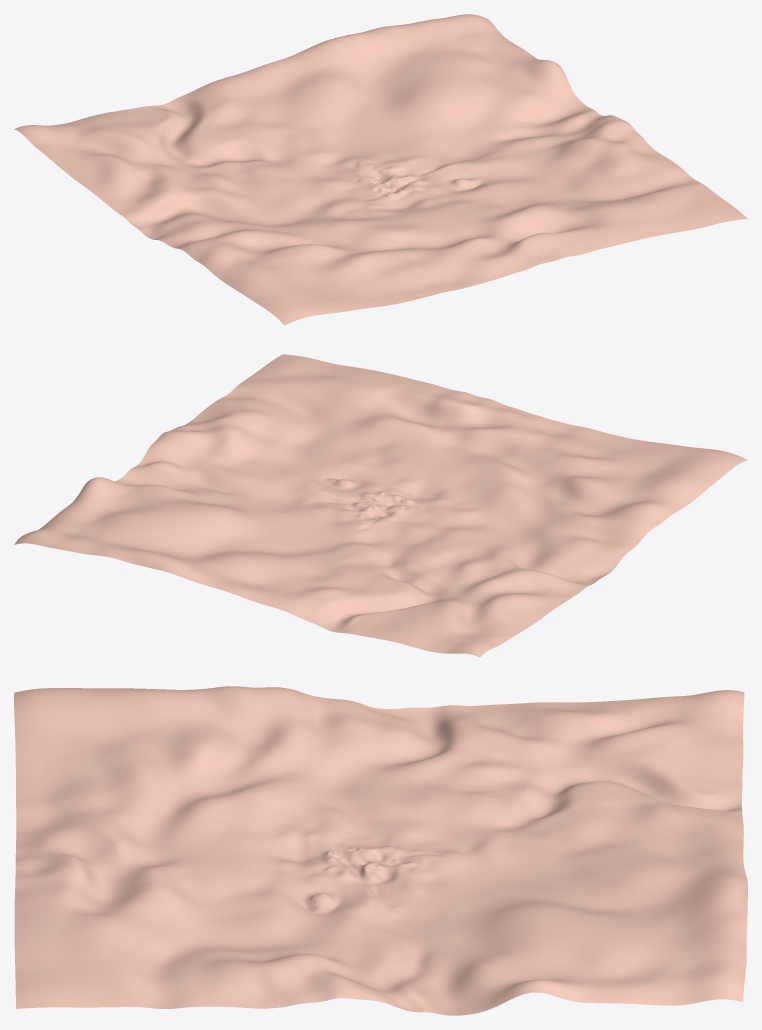
Rendered from Ground_01.glb.
The picture shows the model from 3 angles, top to bottom: view 1: azimuth 30°, elevation 25°; view 2: azimuth 150°, elevation 25°; view 3: azimuth 270°, elevation 25°; orthographic projection. The views are drawn at different scales.
Parts seen in each view (by area): view 1: Ground_01; view 2: Ground_01; view 3: Ground_01.
Boxes of the visible parts, <box> form: Ground_01: <box>14,14,747,325</box>; Ground_01: <box>14,354,747,657</box>; Ground_01: <box>14,686,747,1015</box>.
Size of the model in its own units: 1011 by 63.28 by 1011.
